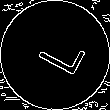L_NW: (25, 30, 85, 80)
